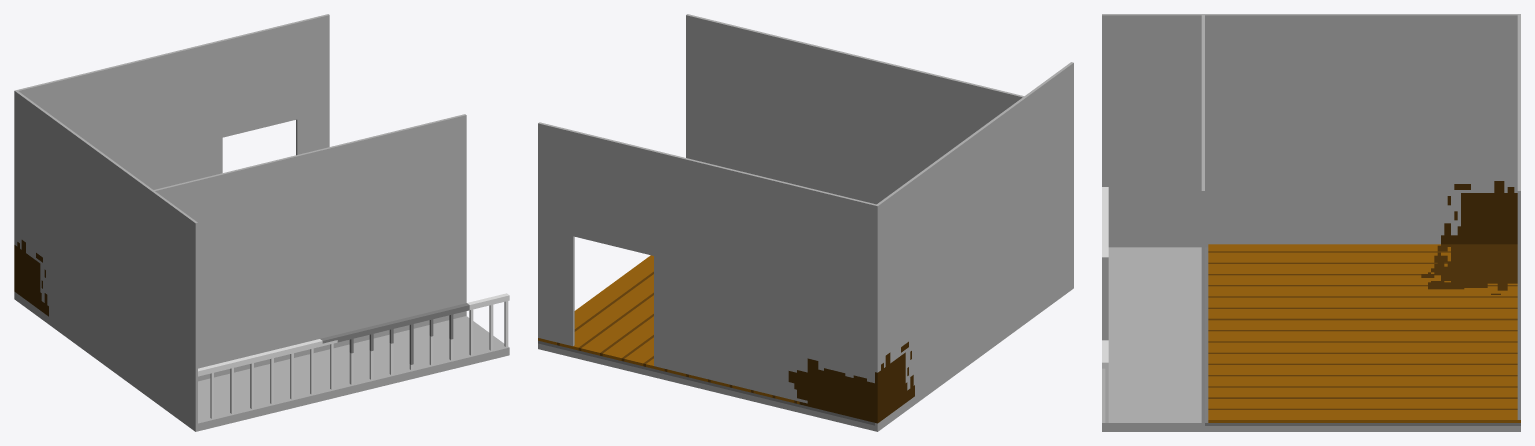
The model's file is 4x2 third (1)-1.obj.
3 renders of one model, left to right at view 1: azimuth 30°, elevation 25°; view 2: azimuth 150°, elevation 25°; view 3: azimuth 270°, elevation 25°, orthographic. The views are drawn at different scales.
Parts seen in each view (by area): view 1: 4x2 third (1)-1; view 2: 4x2 third (1)-1; view 3: 4x2 third (1)-1.
Boxes of the visible parts, x1,y1,x2,y2 form: 4x2 third (1)-1: [14, 14, 509, 431]; 4x2 third (1)-1: [538, 14, 1073, 431]; 4x2 third (1)-1: [1102, 14, 1520, 431].
Bounding box in the file's own units: 126 × 80 × 126.
1 material, 1 textured.
